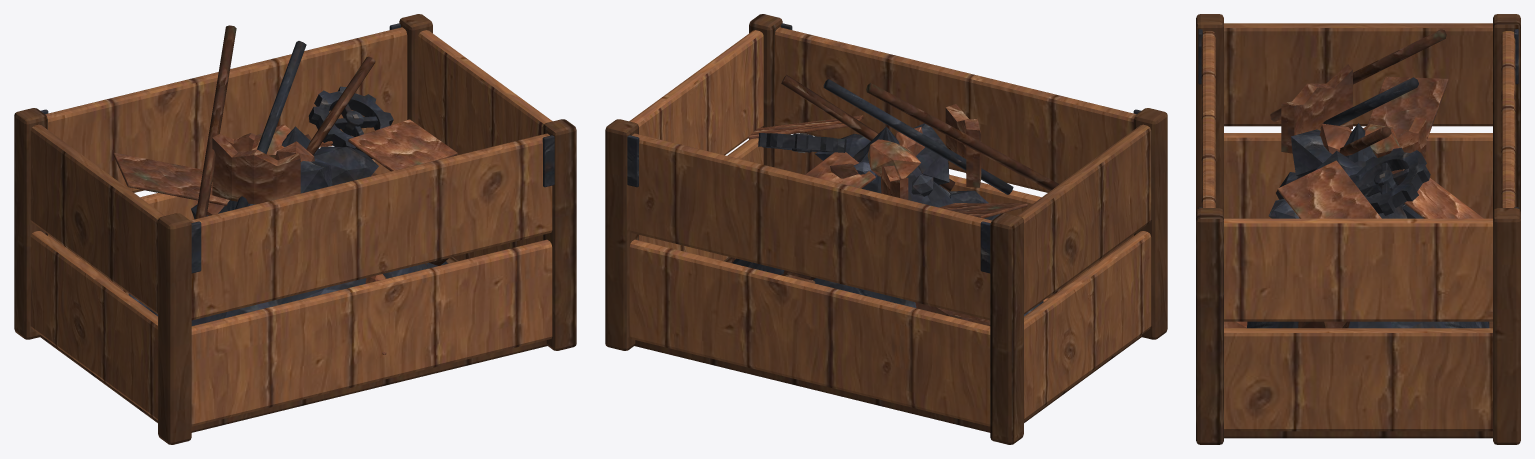
The model's file is cf_scrap_crate.glb.
The picture shows the model from 3 angles, left to right: view 1: azimuth 30°, elevation 25°; view 2: azimuth 150°, elevation 25°; view 3: azimuth 270°, elevation 25°; orthographic projection. The views are drawn at different scales.
Parts seen in each view (by area): view 1: model; view 2: model; view 3: model.
Part boxes in pixels (x1,y1,x2,y2): model: (14, 14, 576, 444); model: (605, 14, 1167, 444); model: (1196, 14, 1520, 444).
Bounding box in the file's own units: 0.87 × 0.5936 × 0.58.
11 materials, 10 textured.
